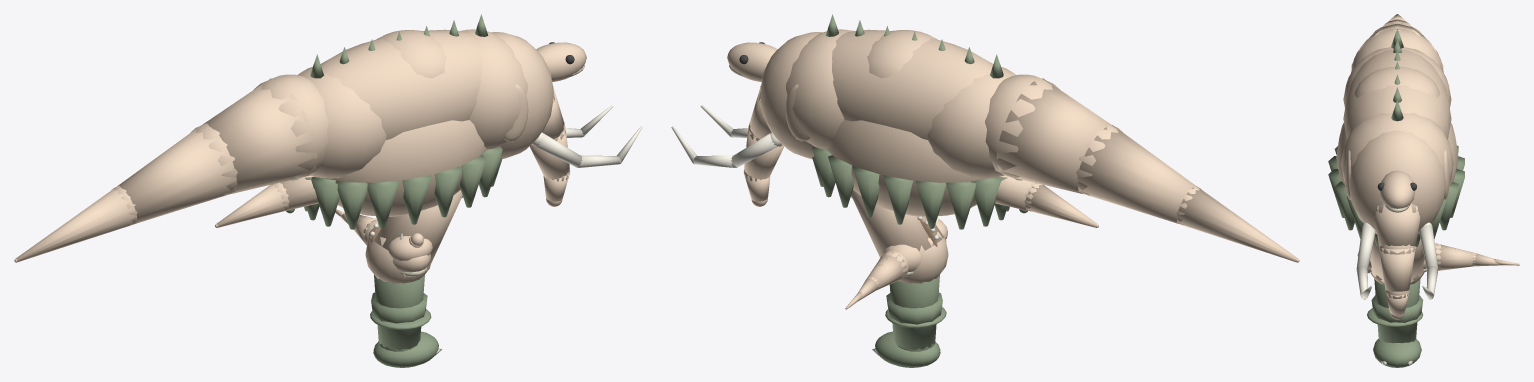
Rendered from creatures.glb.
3 views of the same model, side by side, from view 1: azimuth 30°, elevation 25°; view 2: azimuth 150°, elevation 25°; view 3: azimuth 270°, elevation 25° (orthographic). The views are drawn at different scales.
Parts seen in each view (by area): view 1: sauro_body, mam_body, sauro_neck, sauro_leg, dino_body, tri_torso, mam_leg; view 2: sauro_body, mam_body, sauro_neck, sauro_leg, dino_body, tri_torso, mam_leg; view 3: mam_body, sauro_body, sauro_leg, sauro_neck, tri_torso, mam_leg.
Boxes of the visible parts, x1,y1,x2,y2 form: sauro_body: (14,14,527,262); mam_body: (286,30,642,229); sauro_neck: (365,42,586,283); sauro_leg: (373,275,441,367); dino_body: (215,175,318,227); tri_torso: (339,213,432,276); mam_leg: (370,292,431,329); sauro_body: (786,14,1299,262); mam_body: (671,30,1027,229); sauro_neck: (727,42,948,283); sauro_leg: (872,275,940,367); dino_body: (995,175,1098,227); tri_torso: (858,219,947,300); mam_leg: (885,292,946,328); mam_body: (1328,66,1464,319); sauro_body: (1341,14,1453,182); sauro_leg: (1373,279,1421,367); sauro_neck: (1370,170,1424,284); tri_torso: (1357,243,1502,272); mam_leg: (1367,295,1423,327).
Size of the model in its own units: 13.45 by 7 by 4.07.
